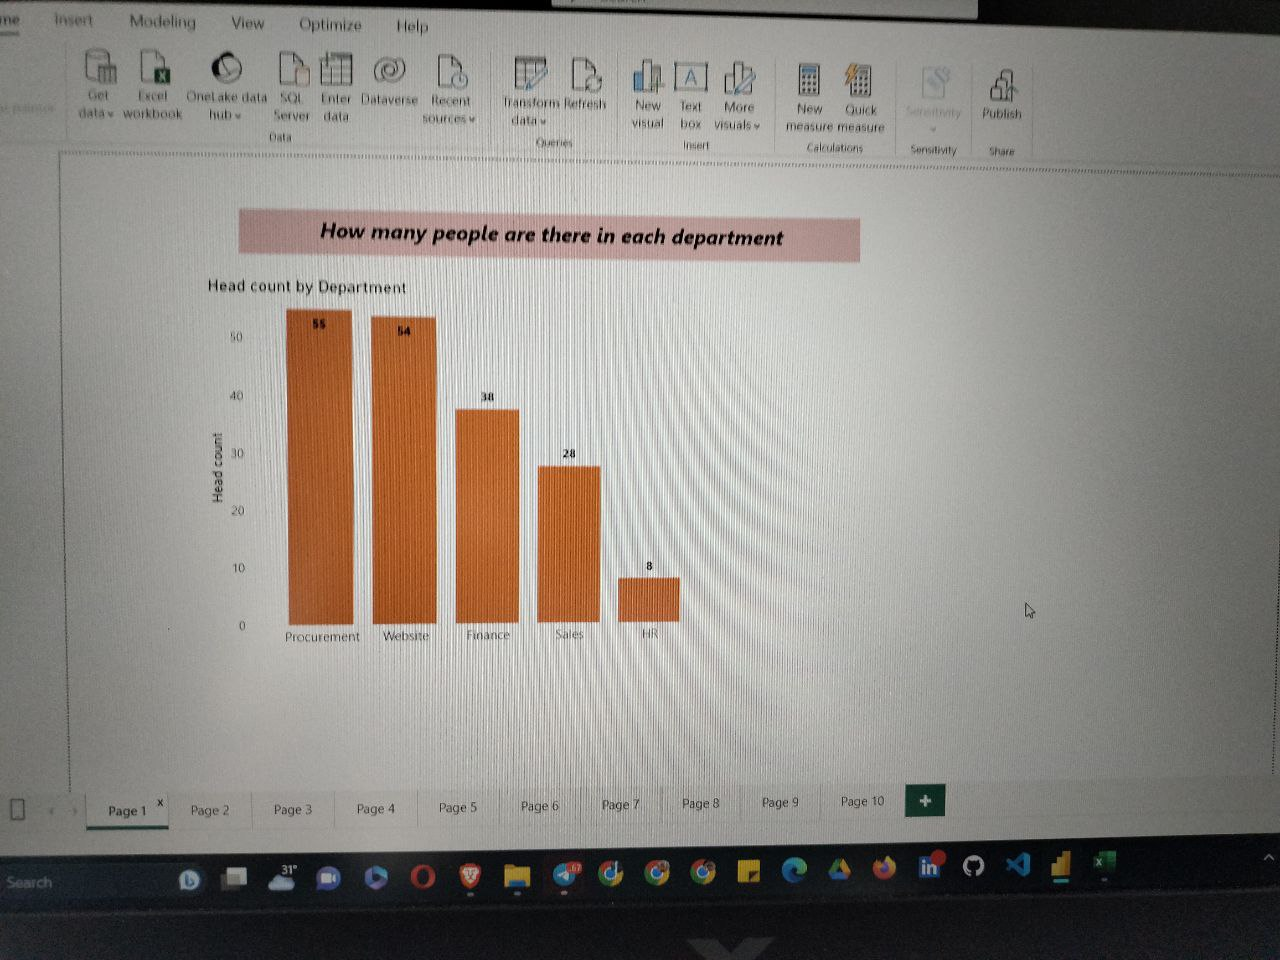

Layout of this report page (visuals, bound fields, positions):
{"tool":"powerbi","page":{"name":"Page 1","canvas":[1280,720],"ordinal":0},"visuals":[{"type":"columnChart","fields":{"Category":["Data.Department"],"Y":["Data.Head count"]},"box":[140,121.1,527.8,388.9],"z":0},{"type":"textbox","box":[176.7,53.3,636.7,45.6],"z":1000}]}

Visuals, with their boxes on the page's 1280x720 design canvas (x1, y1, x2, y2). These are canvas units, not pixel positions in the 1280x960 screenshot, which may show the page scaled, cropped or inside an application window:
columnChart - Data.Department x Data.Head count: crop(140, 121, 668, 510)
textbox: crop(177, 53, 813, 99)
